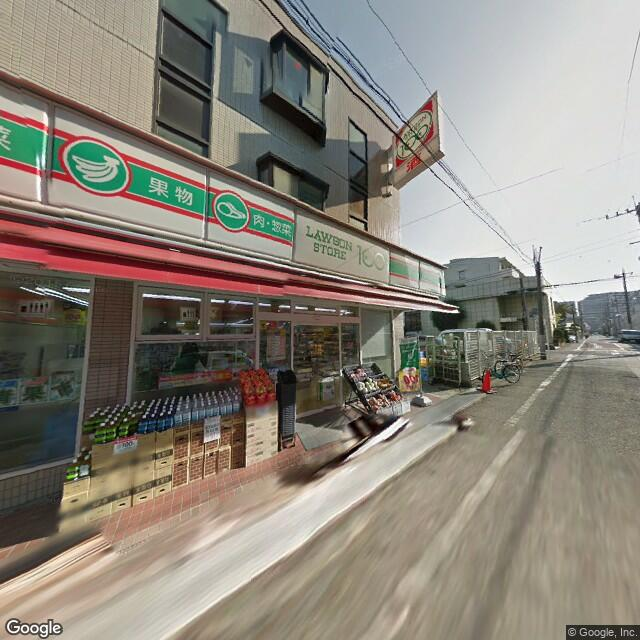lawson: (1, 91, 454, 303), (391, 94, 443, 167)
